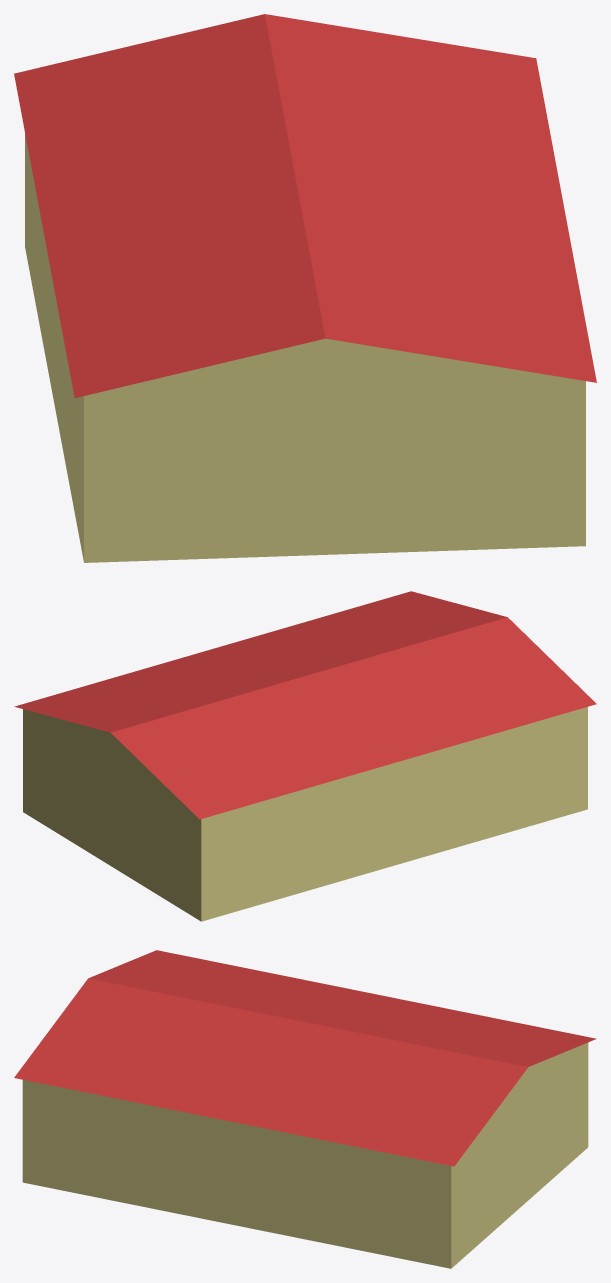
3 views of the same model, one above another, from view 1: azimuth 30°, elevation 25°; view 2: azimuth 150°, elevation 25°; view 3: azimuth 270°, elevation 25° (orthographic). The views are drawn at different scales.
Bounding box in the file's own units: 39.33 × 45.03 × 11.9.
